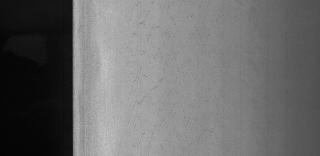silk spot: (124, 2, 192, 108)
